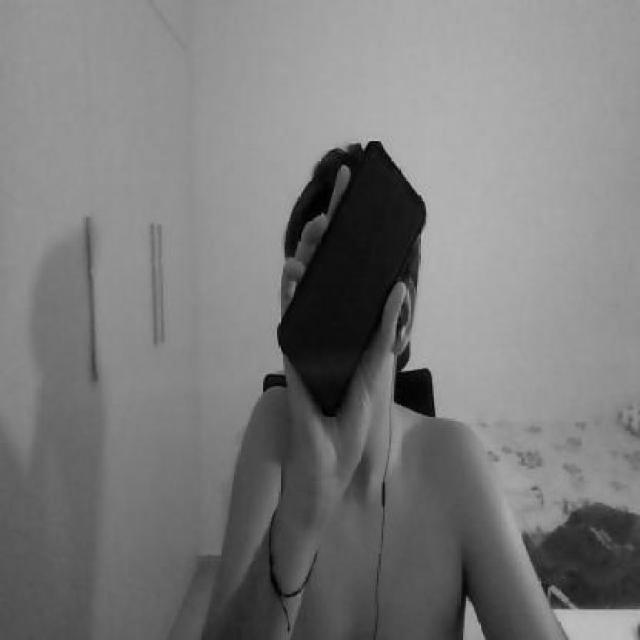fake: (274, 139, 428, 416)
